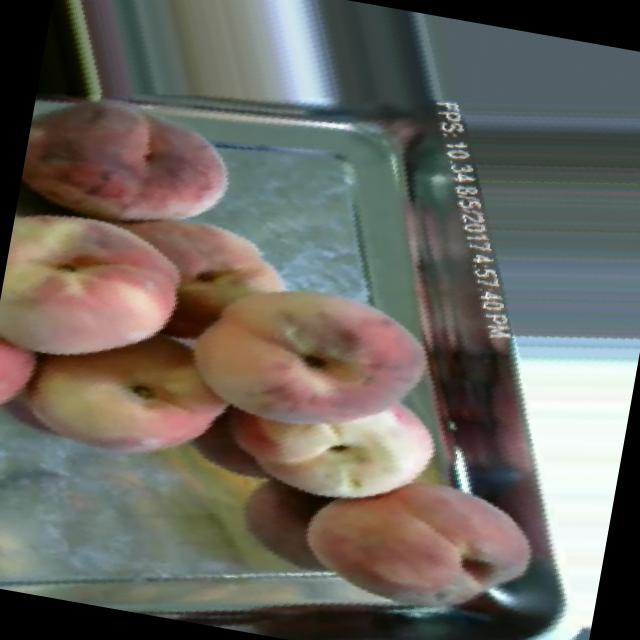Fruit: (149, 224, 475, 482), (269, 422, 571, 640), (0, 293, 266, 497), (0, 200, 208, 401), (16, 78, 253, 240)
